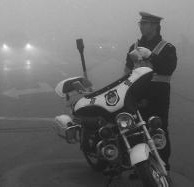person: (124, 10, 179, 182)
